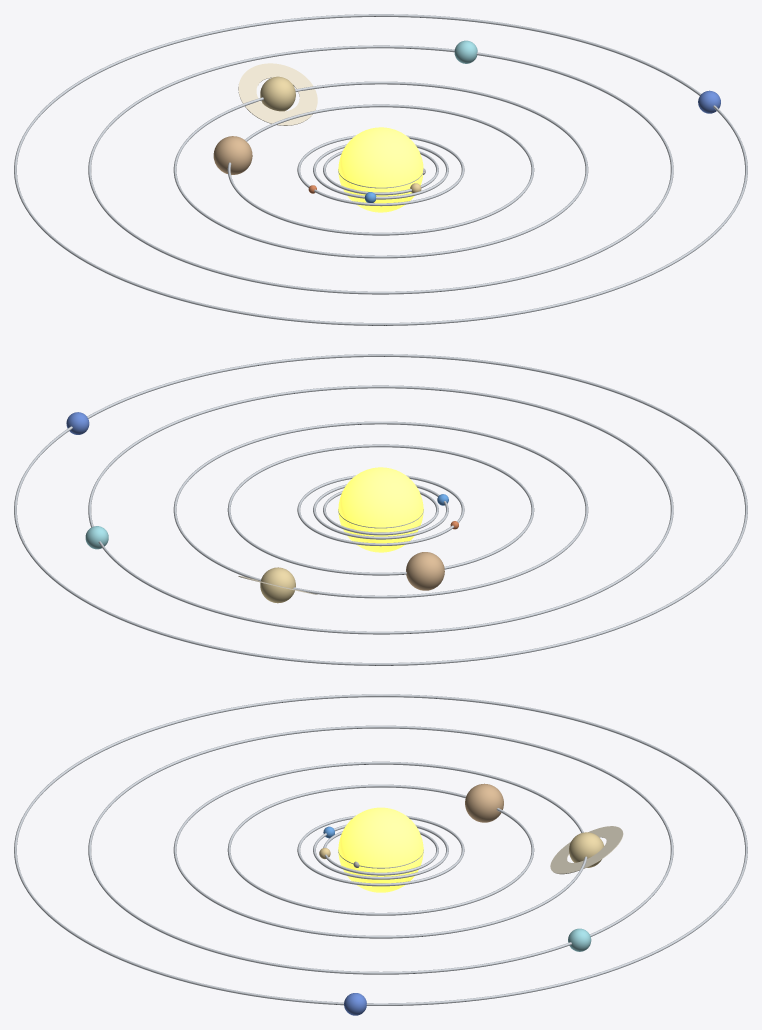
The model's file is solar-system.glb.
The picture shows the model from 3 angles, top to bottom: view 1: azimuth 30°, elevation 25°; view 2: azimuth 150°, elevation 25°; view 3: azimuth 270°, elevation 25°; orthographic projection.
Visible parts, largest first — view 1: orbit_of_neptune, sun, orbit_of_uranus, orbit_of_saturn, saturn_s_rings, orbit_of_jupiter, jupiter, orbit_of_mars, saturn, orbit_of_earth, orbit_of_venus; view 2: orbit_of_neptune, sun, orbit_of_uranus, orbit_of_saturn, orbit_of_jupiter, jupiter, orbit_of_mars, saturn, orbit_of_earth, orbit_of_venus; view 3: orbit_of_neptune, sun, orbit_of_uranus, orbit_of_saturn, orbit_of_jupiter, saturn_s_rings, jupiter, orbit_of_mars, saturn, orbit_of_earth, orbit_of_venus.
Part boxes in pixels (left/top/right/bottom): orbit_of_neptune: left=14, top=14, right=747, bottom=325; sun: left=338, top=127, right=423, bottom=212; orbit_of_uranus: left=88, top=45, right=673, bottom=294; orbit_of_saturn: left=173, top=81, right=588, bottom=258; saturn_s_rings: left=238, top=63, right=317, bottom=125; orbit_of_jupiter: left=227, top=104, right=534, bottom=235; jupiter: left=213, top=136, right=252, bottom=174; orbit_of_mars: left=297, top=135, right=464, bottom=206; saturn: left=260, top=76, right=295, bottom=111; orbit_of_earth: left=313, top=144, right=448, bottom=199; orbit_of_venus: left=323, top=151, right=438, bottom=195; orbit_of_neptune: left=14, top=354, right=747, bottom=665; sun: left=338, top=467, right=423, bottom=552; orbit_of_uranus: left=88, top=385, right=673, bottom=634; orbit_of_saturn: left=173, top=421, right=588, bottom=598; orbit_of_jupiter: left=227, top=444, right=534, bottom=575; jupiter: left=406, top=552, right=444, bottom=590; orbit_of_mars: left=297, top=475, right=464, bottom=546; saturn: left=260, top=567, right=295, bottom=603; orbit_of_earth: left=313, top=484, right=448, bottom=539; orbit_of_venus: left=323, top=491, right=438, bottom=535; orbit_of_neptune: left=14, top=694, right=747, bottom=1005; sun: left=338, top=807, right=423, bottom=892; orbit_of_uranus: left=88, top=725, right=673, bottom=974; orbit_of_saturn: left=173, top=761, right=587, bottom=938; orbit_of_jupiter: left=227, top=784, right=534, bottom=915; saturn_s_rings: left=550, top=826, right=623, bottom=874; jupiter: left=465, top=783, right=503, bottom=822; orbit_of_mars: left=297, top=815, right=464, bottom=886; saturn: left=569, top=832, right=603, bottom=867; orbit_of_earth: left=313, top=824, right=448, bottom=879; orbit_of_venus: left=323, top=831, right=438, bottom=875.
Bounding box in the file's own units: 0.6099 × 0.07 × 0.6024.
